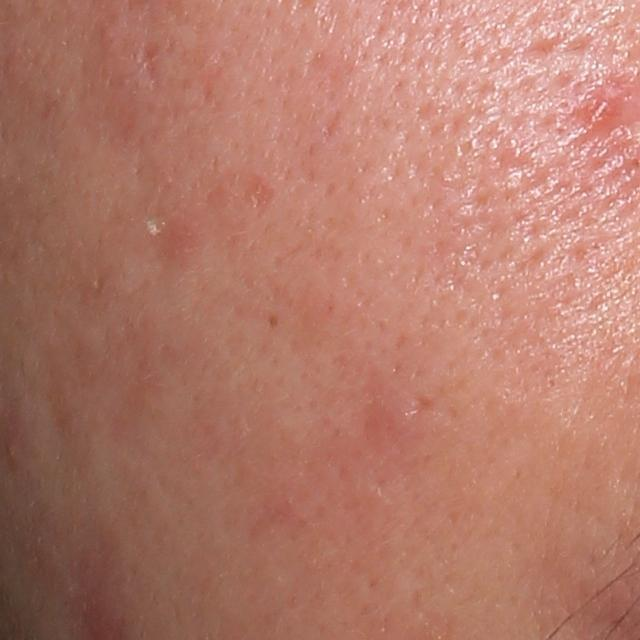atrophic_scar: (243, 174, 279, 221), (133, 37, 164, 91), (408, 393, 439, 417)
papule: (158, 206, 207, 263), (579, 94, 616, 135)
